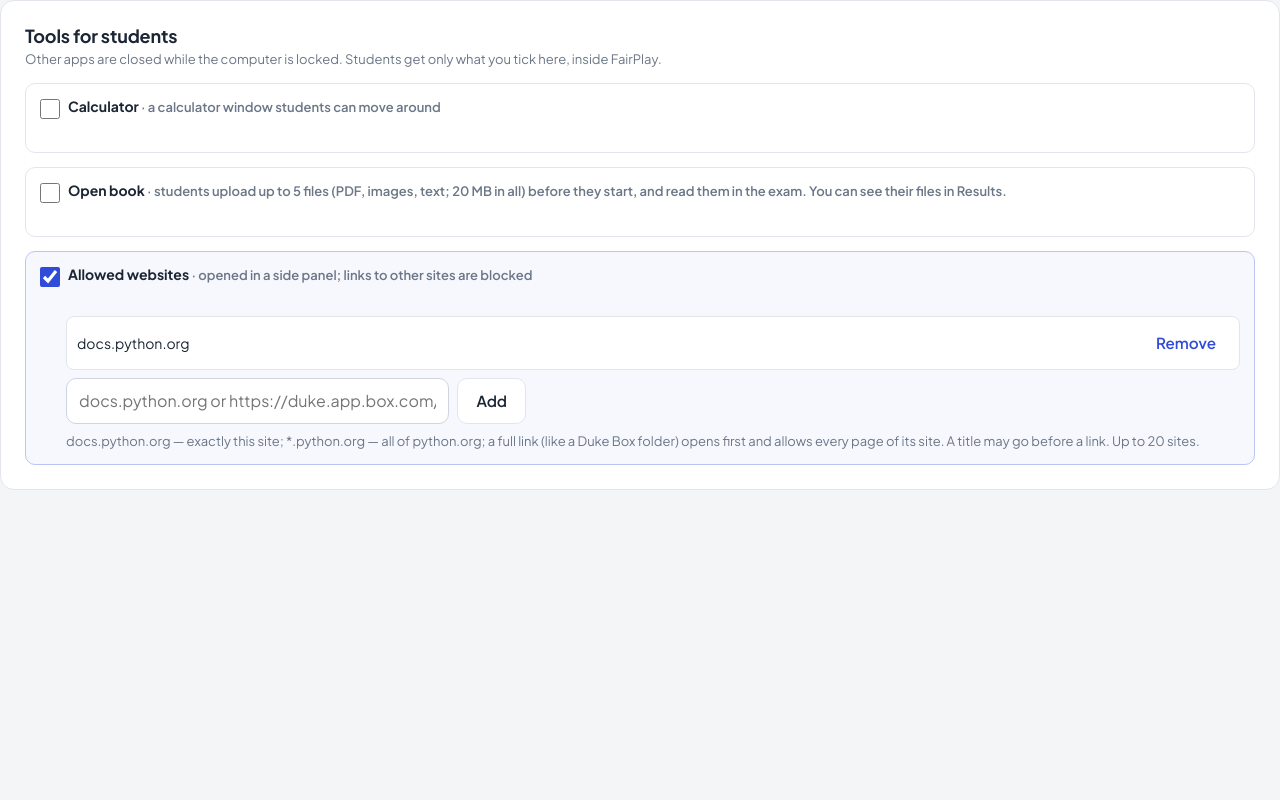
it: H3: websites that refuse to be framed › the teacher sees a warning next to a site that can't be shown
The image size is (1280, 800).
Type "github.com" into the field named "Website to allow". click: point(258, 401)
box: [66,378,449,424]
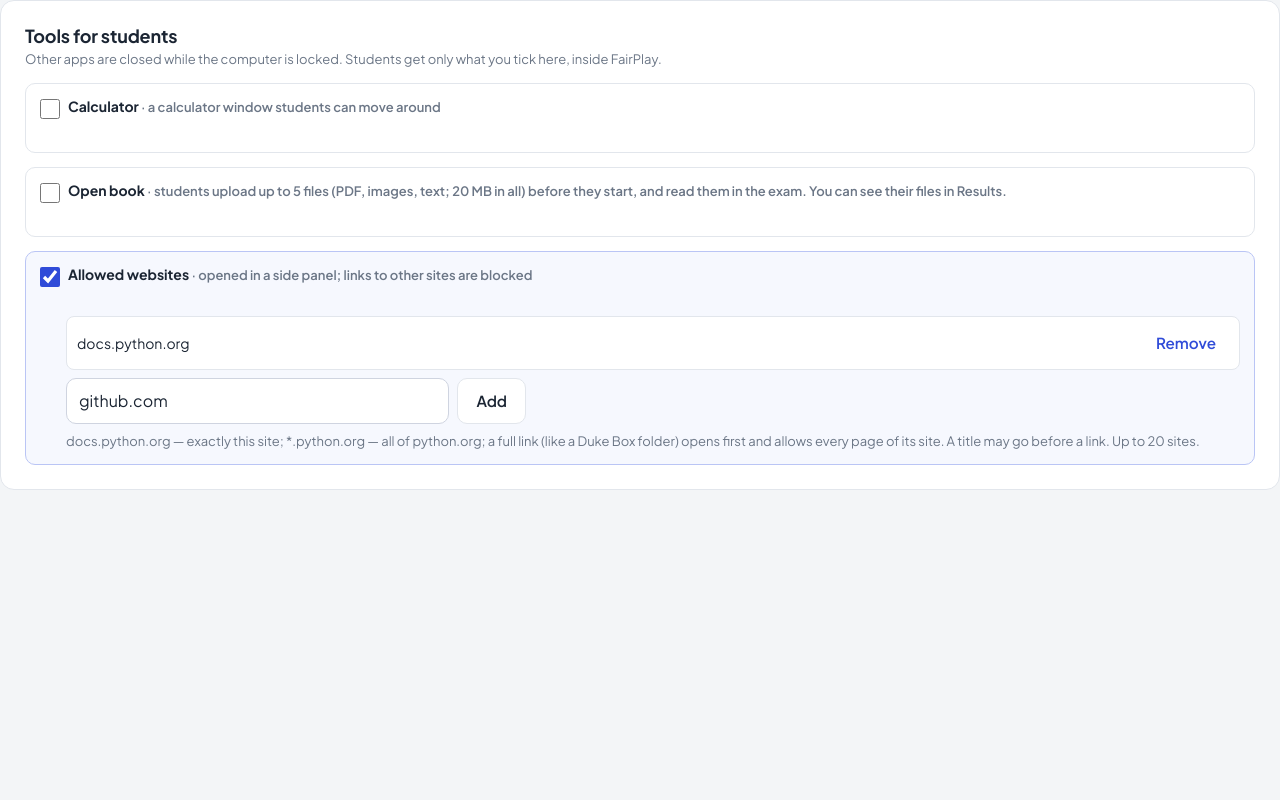
Click the button "Add". click: point(492, 401)
box: [457,378,526,424]
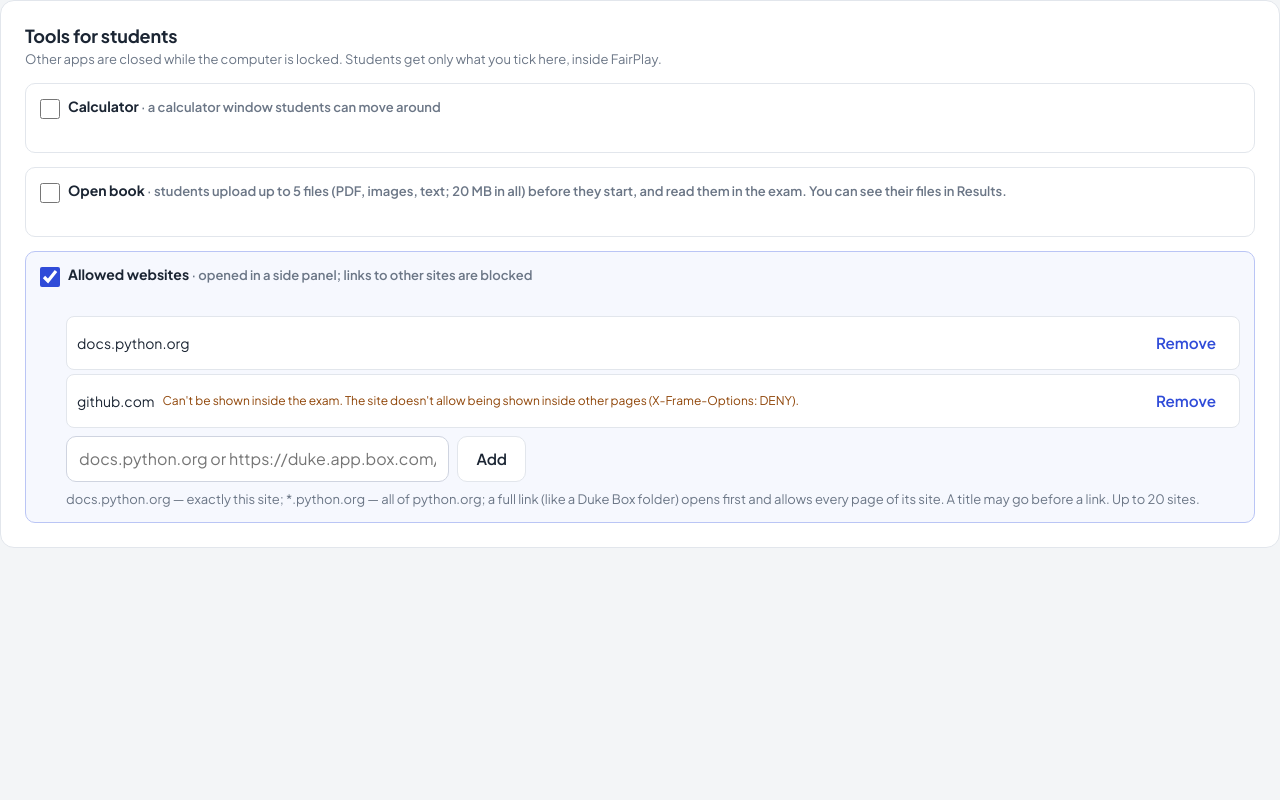
expect the text with test id "site-warn" shows "Can't be shown inside the exam": met, box [163,393,343,408]
expect the list item with test id "site-warn" shows "github.com": met, box [77,392,155,410]
expect the number of elements with test id "site-warn" is 1: met, box [163,393,799,408]
